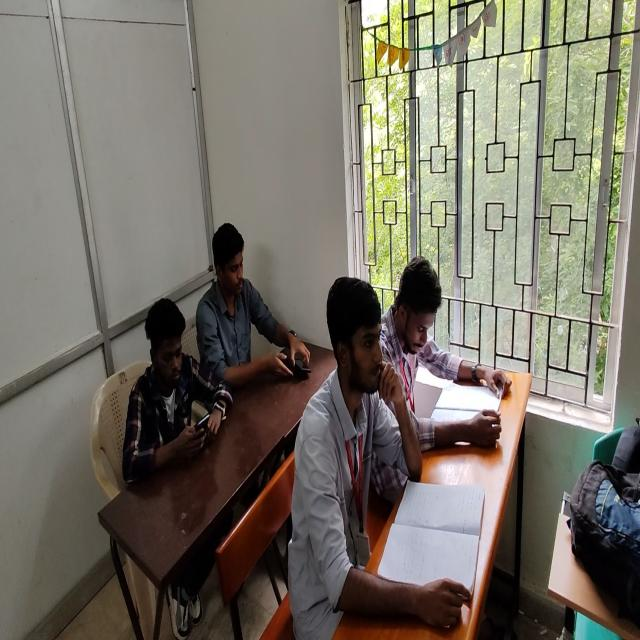listening: (300, 276, 444, 640)
reading: (379, 250, 519, 461)
using_mobile: (111, 286, 238, 497), (194, 221, 304, 402)
